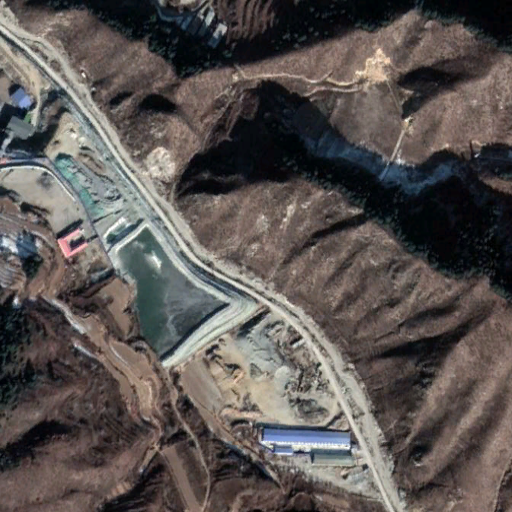tp: (106, 218, 253, 368)
